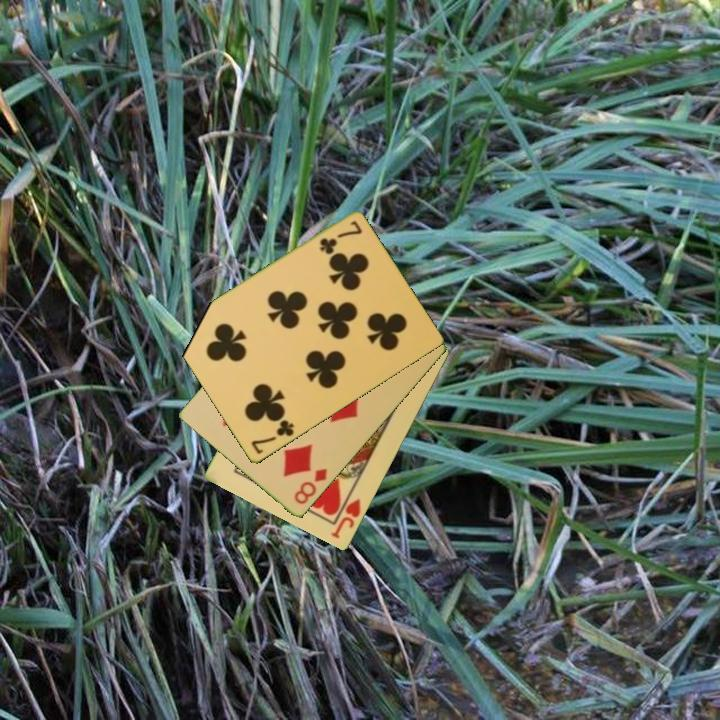7c: (247, 416, 297, 457), (316, 217, 365, 257)
8d: (290, 465, 330, 508)
Jh: (327, 495, 364, 542)
